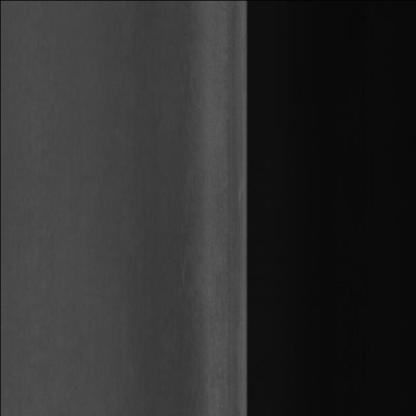silk_spot: (167, 188, 212, 302)
